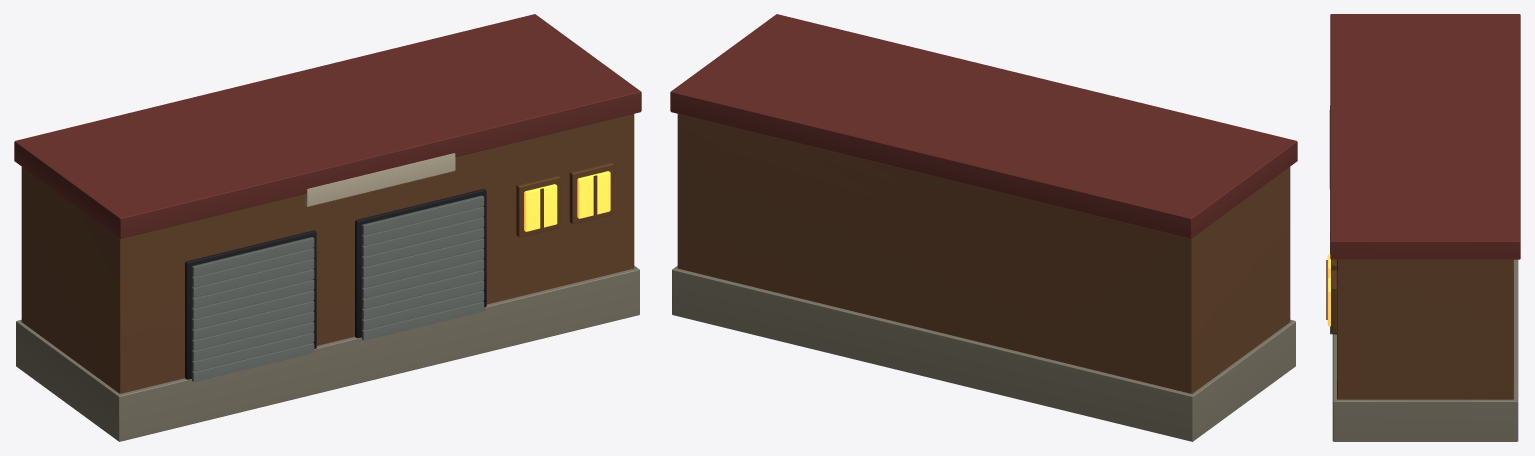
The model's file is pit_garage.glb.
3 views of the same model, side by side, from view 1: azimuth 30°, elevation 25°; view 2: azimuth 150°, elevation 25°; view 3: azimuth 270°, elevation 25° (orthographic). The views are drawn at different scales.
Parts seen in each view (by area): view 1: Plinth, Blank sign; view 2: Plinth; view 3: Plinth.
Boxes of the visible parts, x1,y1,x2,y2 form: Plinth: [14, 14, 641, 441]; Blank sign: [305, 153, 455, 206]; Plinth: [670, 14, 1297, 441]; Plinth: [1326, 14, 1520, 441].
Bounding box in the file's own units: 14 × 5.77 × 5.05.
